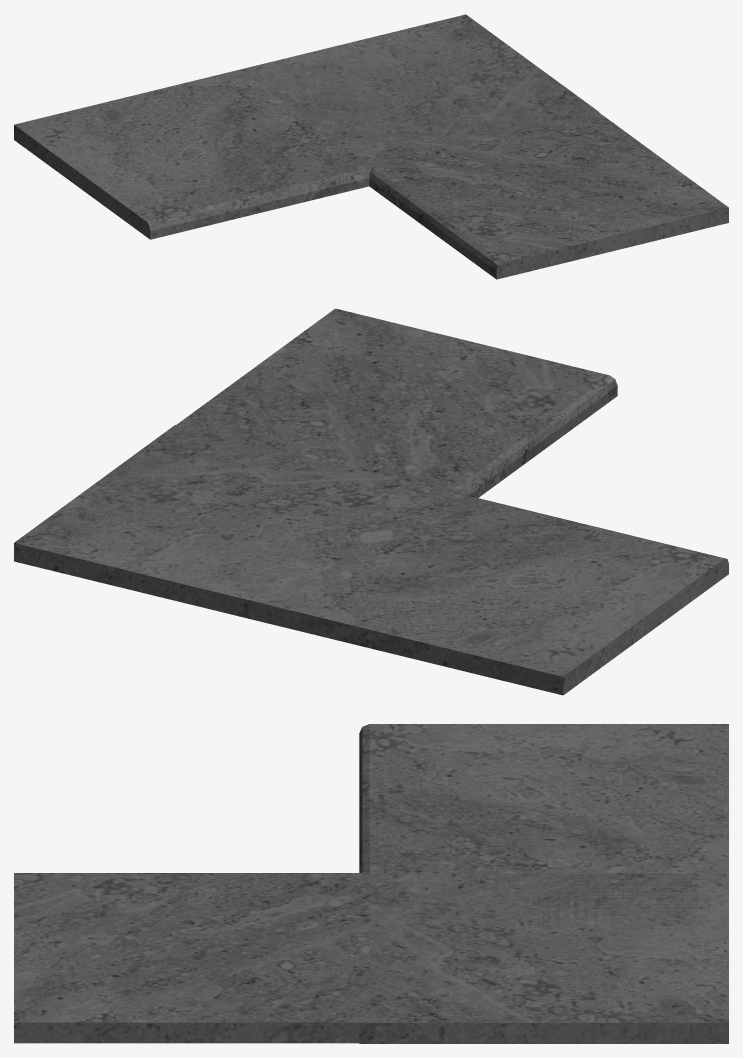
Rendered from CounterTop(L-Shaped).fbx.
The picture shows the model from 3 angles, top to bottom: view 1: azimuth 30°, elevation 25°; view 2: azimuth 150°, elevation 25°; view 3: azimuth 270°, elevation 25°; orthographic projection. The views are drawn at different scales.
Parts seen in each view (by area): view 1: Cube.022; view 2: Cube.022; view 3: Cube.022.
Boxes of the visible parts, <box> form: Cube.022: <box>14,14,728,279</box>; Cube.022: <box>14,308,728,695</box>; Cube.022: <box>14,724,728,1043</box>.
Bounding box in the file's own units: 123 × 4 × 125.
Materials: 1 (1 with a texture image).
